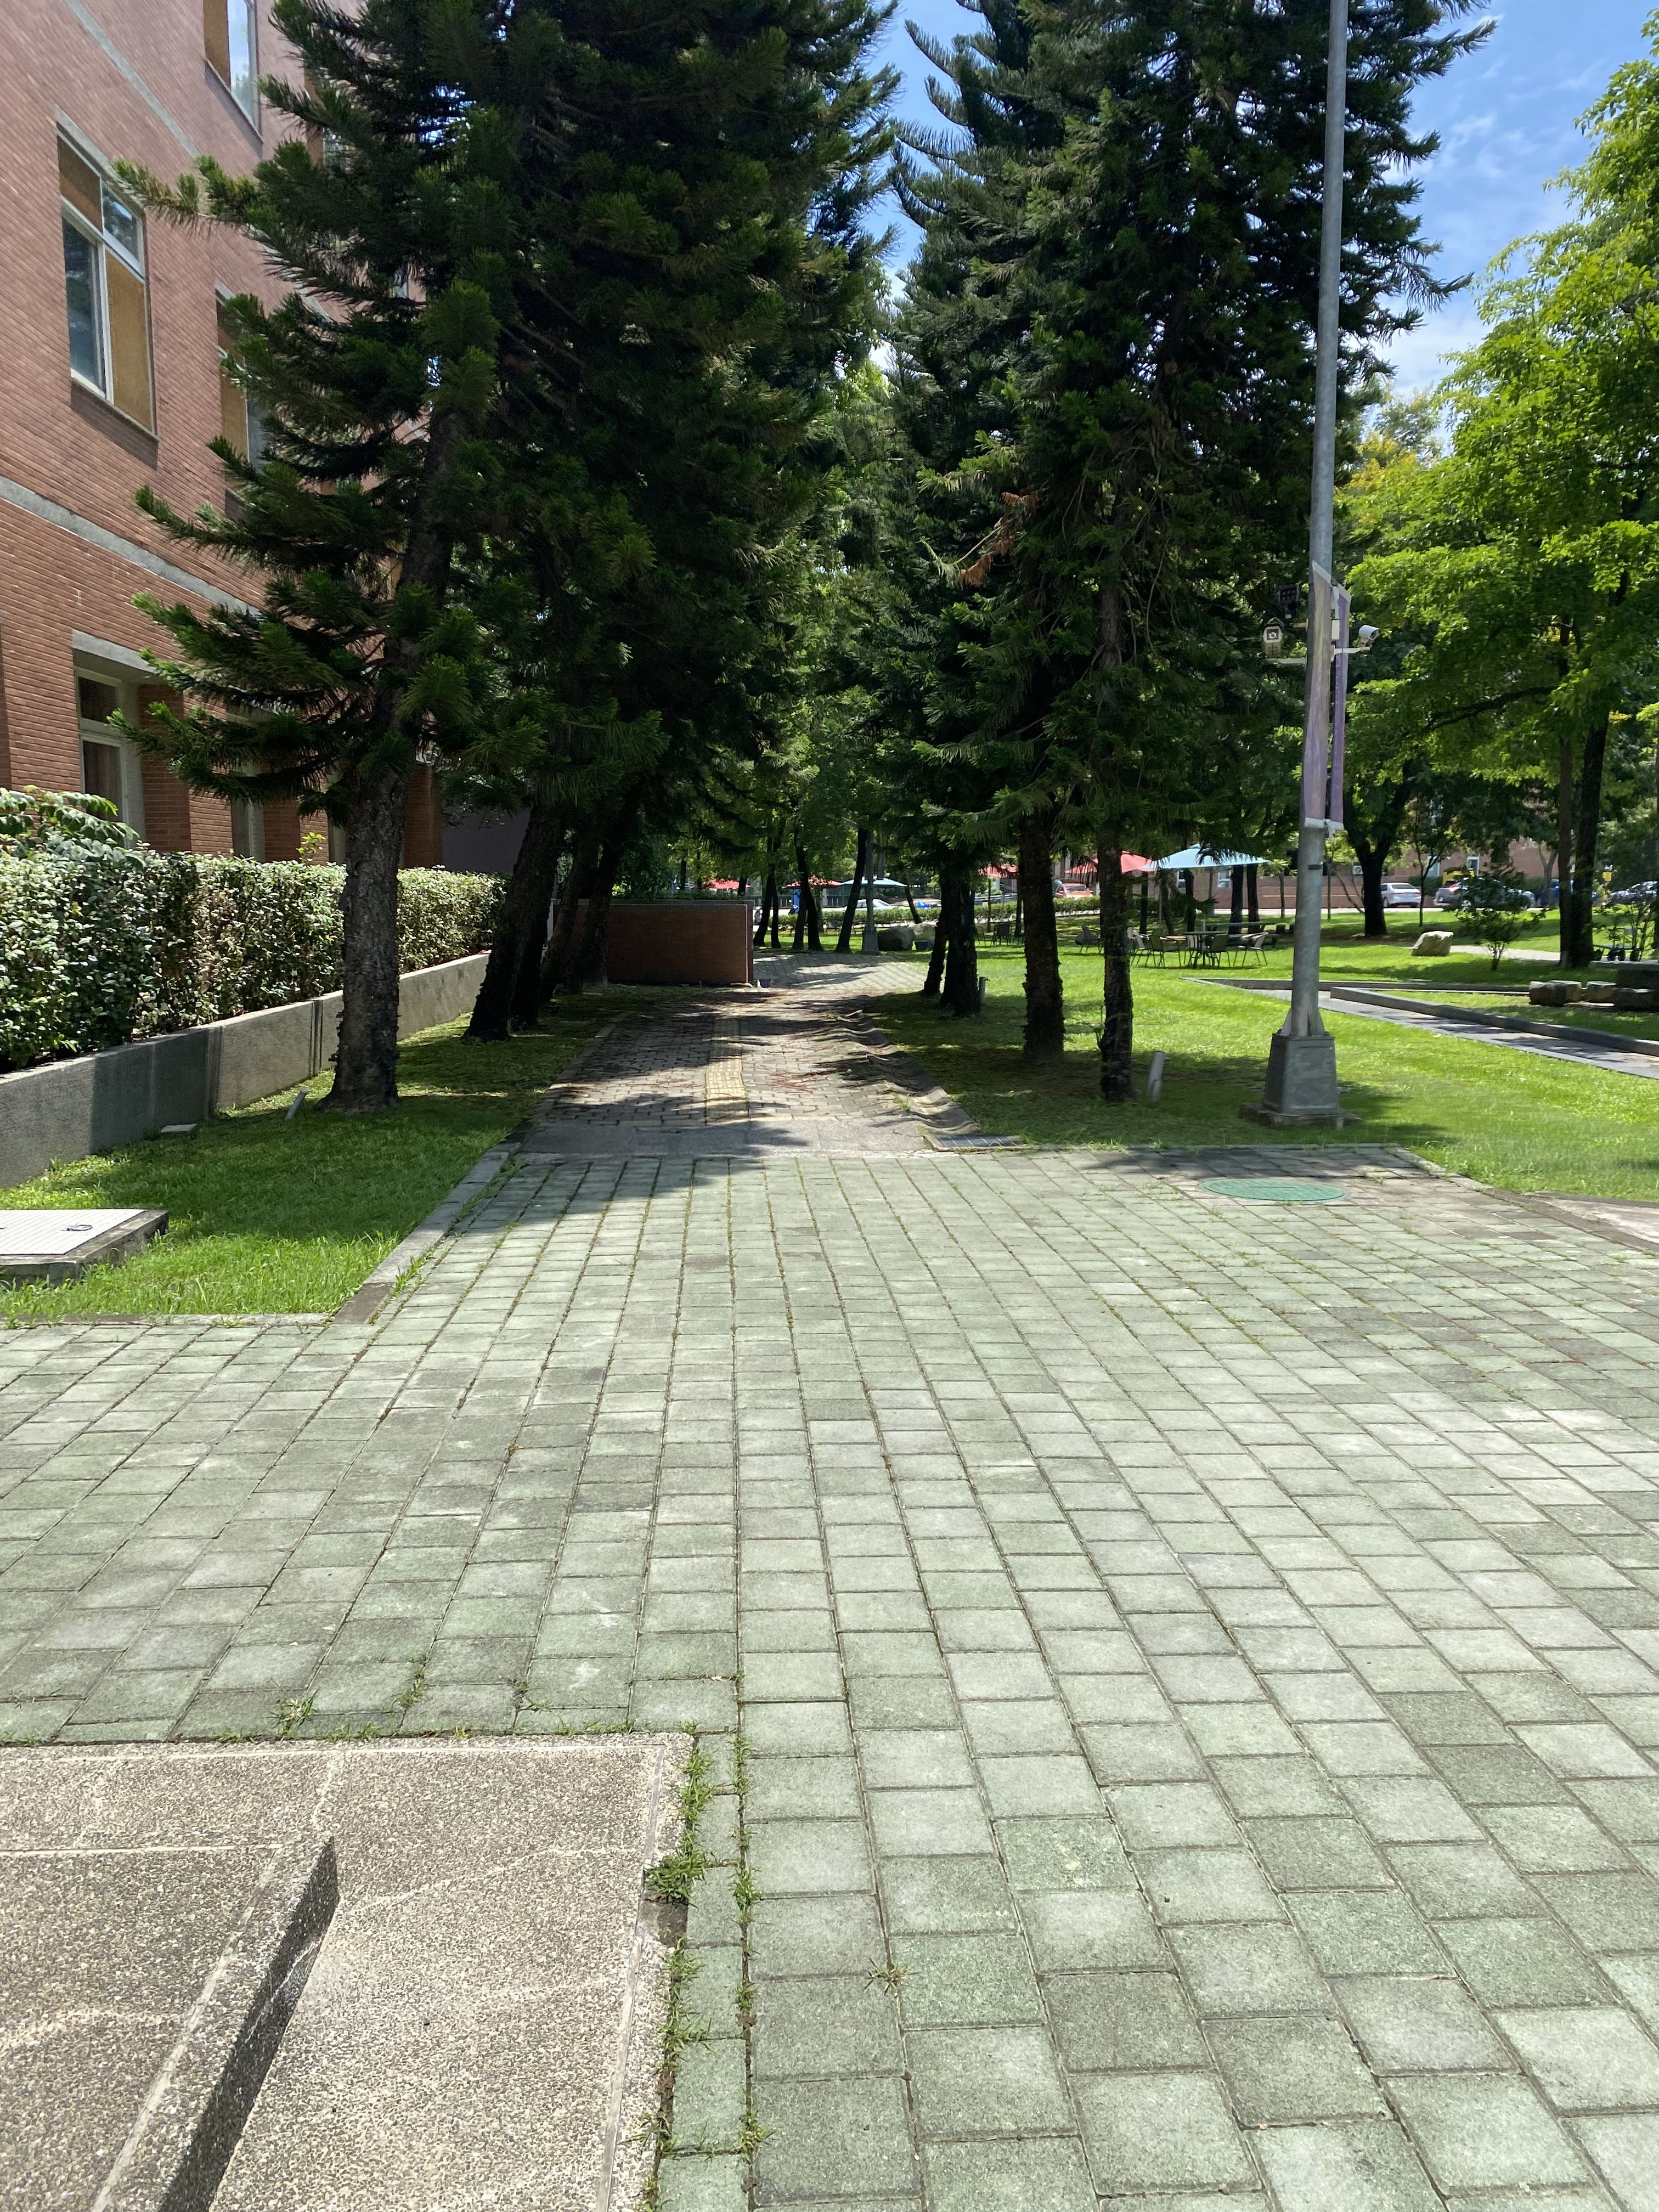sidewalk: (23, 853, 1659, 2184)
